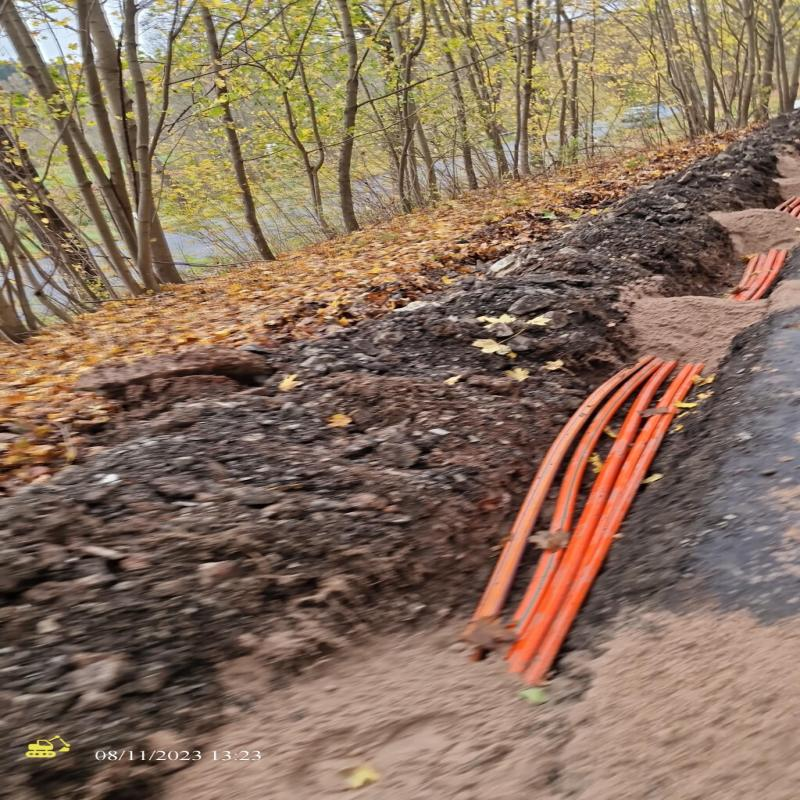Orang-Speednetrohrchen: (515, 360, 703, 674), (474, 355, 651, 619), (508, 357, 662, 634), (732, 250, 785, 299)
